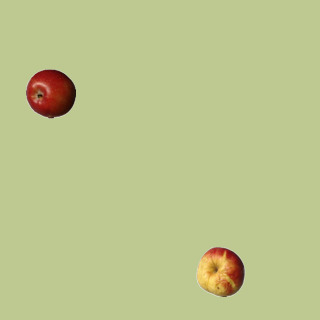Apple Braeburn: (25, 68, 75, 118)
Apple Red Yellow 1: (195, 246, 245, 296)
